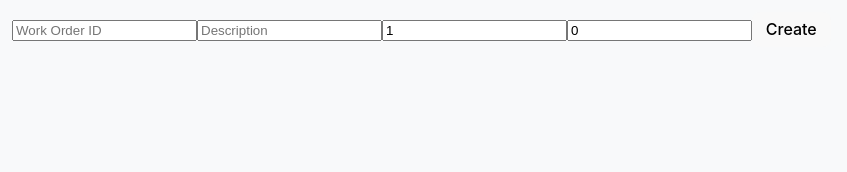
LineItemForm Component › Error Handling › handles network errors
Type "WO-001" into the field labelled "Work Order ID".
click(104, 31); type("WO-001")  # box [12, 20, 197, 41]
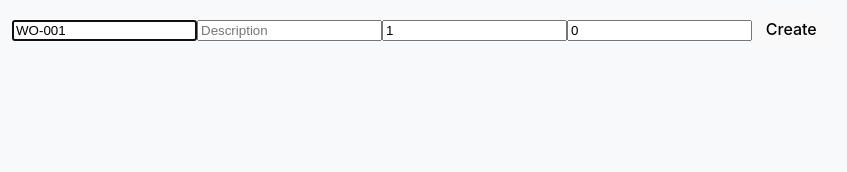
Type "Test Item" into the field named "line item description".
click(290, 31); type("Test Item")  # box [197, 20, 382, 41]
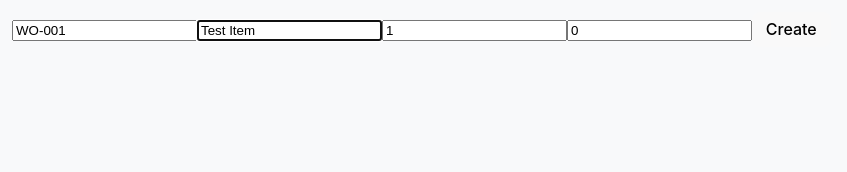
Click the button "Create".
click(791, 29)  # box [752, 12, 830, 47]
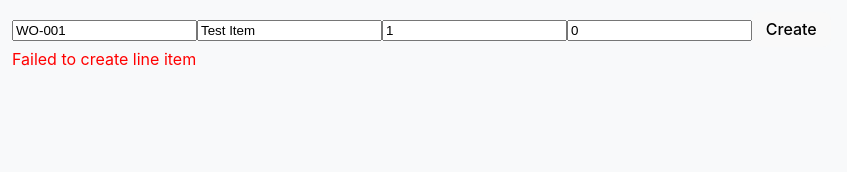
Expected: the text "Failed to create line item" is shown, [12, 49, 196, 69]
